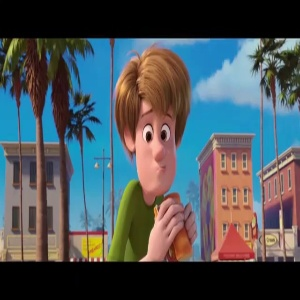Shagy: (114, 50, 196, 195)
